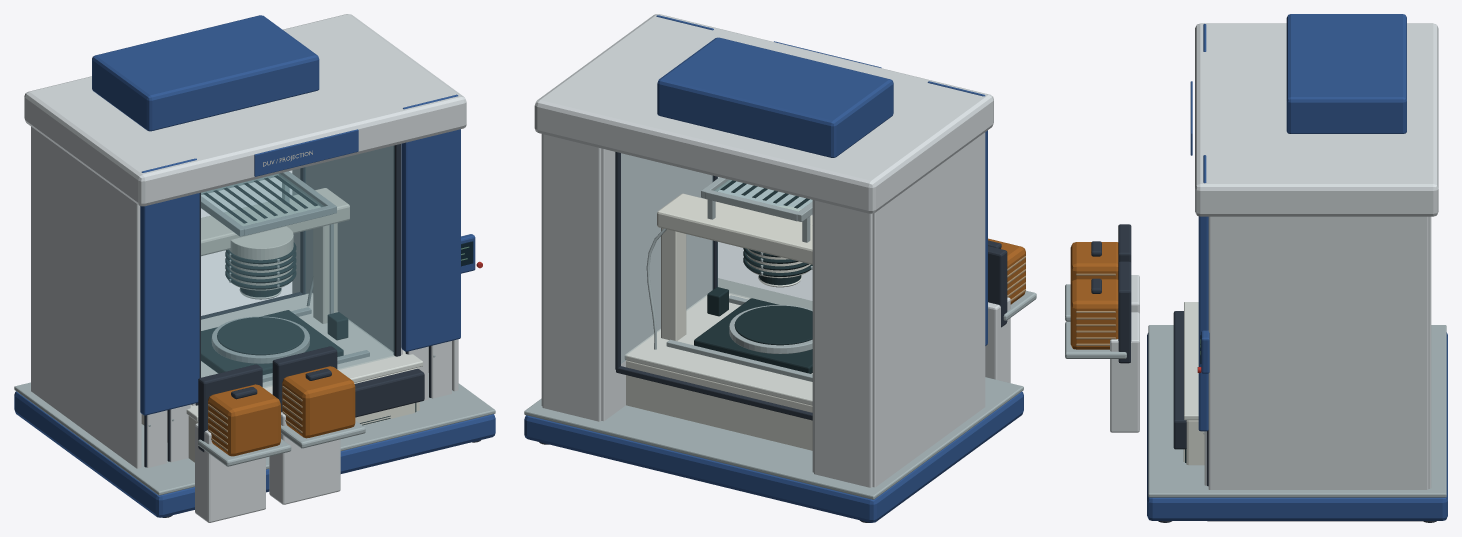
Rendered from equipment-scanner.glb.
3 views of the same model, side by side, from view 1: azimuth 30°, elevation 25°; view 2: azimuth 150°, elevation 25°; view 3: azimuth 270°, elevation 25° (orthographic). The views are drawn at different scales.
Visible parts, largest first — view 1: Front observation window, Massive isolated optical bridge, Side service skin, Reticle handling crown, Optical bridge blue upright.001, Optical bridge blue upright, Side service skin.002, Segmented service plinth, Raised deck edge, Satin service deck, Independent load port base, Amber wafer transport pod.001 (+23 smaller); view 2: Massive isolated optical bridge, Side service skin, Reticle handling crown, Rear utility enclosure.001, Rear utility enclosure, Side service skin.002, Segmented service plinth, Raised deck edge, Side observation window.001, Precision cabinet, Satin service deck, Lens bridge (+15 smaller); view 3: Side service skin.003, Massive isolated optical bridge, Reticle handling crown, Raised deck edge, Segmented service plinth, Amber wafer transport pod.001, Independent load port base.001, Optical bridge blue upright.001, Satin service deck, Amber wafer transport pod, Isolated stage sill, Pod docking bulkhead.001 (+4 smaller).
Part boxes in pixels (<box>): Front observation window: <box>201,145,394,387</box>; Massive isolated optical bridge: <box>24,14,466,206</box>; Side service skin: <box>31,126,141,468</box>; Reticle handling crown: <box>92,15,319,131</box>; Optical bridge blue upright.001: <box>401,129,460,351</box>; Optical bridge blue upright: <box>140,193,199,415</box>; Side service skin.002: <box>292,144,402,354</box>; Segmented service plinth: <box>14,391,495,517</box>; Raised deck edge: <box>14,373,495,495</box>; Satin service deck: <box>186,293,423,421</box>; Independent load port base: <box>195,423,265,522</box>; Amber wafer transport pod.001: <box>282,366,355,438</box>; Massive isolated optical bridge: <box>534,14,993,213</box>; Side service skin: <box>872,132,985,487</box>; Reticle handling crown: <box>657,37,893,157</box>; Rear utility enclosure.001: <box>542,134,601,421</box>; Rear utility enclosure: <box>814,200,872,487</box>; Side service skin.002: <box>601,148,712,421</box>; Segmented service plinth: <box>524,391,1023,522</box>; Raised deck edge: <box>524,377,1023,499</box>; Side observation window.001: <box>621,154,713,363</box>; Precision cabinet: <box>626,360,812,450</box>; Satin service deck: <box>624,278,812,405</box>; Lens bridge: <box>657,193,812,264</box>; Side service skin.003: <box>1208,216,1428,489</box>; Massive isolated optical bridge: <box>1195,23,1438,216</box>; Reticle handling crown: <box>1286,14,1406,133</box>; Raised deck edge: <box>1148,325,1446,497</box>; Segmented service plinth: <box>1147,332,1447,520</box>; Amber wafer transport pod.001: <box>1070,279,1118,349</box>; Independent load port base.001: <box>1110,312,1139,432</box>; Optical bridge blue upright.001: <box>1198,216,1208,431</box>; Satin service deck: <box>1184,302,1198,420</box>; Amber wafer transport pod: <box>1070,242,1118,284</box>; Isolated stage sill: <box>1173,311,1186,449</box>; Pod docking bulkhead.001: <box>1118,261,1131,363</box>.
Size of the model in its own units: 6.9 by 6.89 by 6.37.
